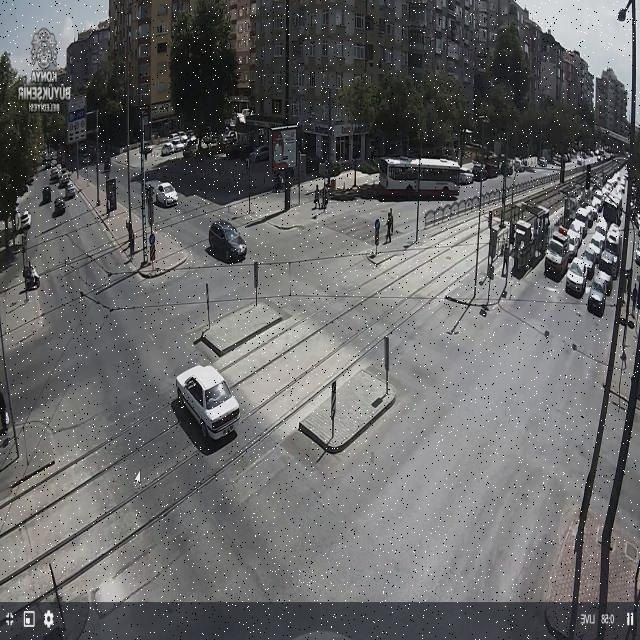bus: (380, 158, 461, 193)
car: (176, 365, 239, 439), (209, 222, 246, 262), (544, 232, 569, 281), (588, 270, 612, 317), (565, 258, 586, 298), (155, 182, 178, 207), (574, 258, 595, 279), (569, 229, 582, 257), (52, 198, 66, 218), (19, 210, 31, 231), (40, 186, 51, 204), (65, 181, 76, 199)
lorry: (510, 202, 549, 278)
